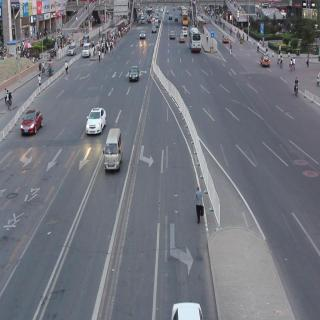BigCar: (188, 27, 204, 57)
Car: (102, 122, 124, 177), (18, 103, 44, 138), (83, 105, 107, 140), (127, 62, 142, 88), (257, 49, 272, 71), (82, 41, 92, 64), (137, 26, 147, 46), (221, 32, 231, 46), (68, 42, 76, 58)
